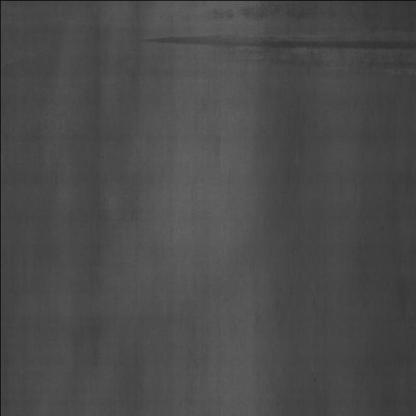crease: (143, 22, 414, 78)
